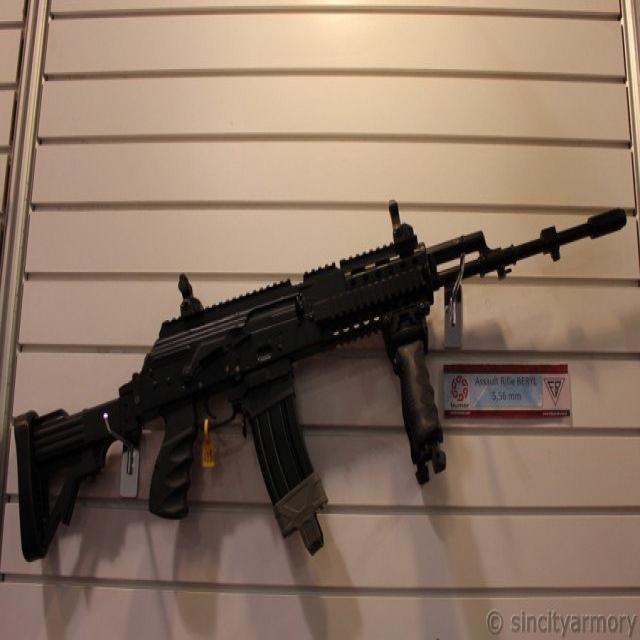firearm: (14, 200, 627, 562)
